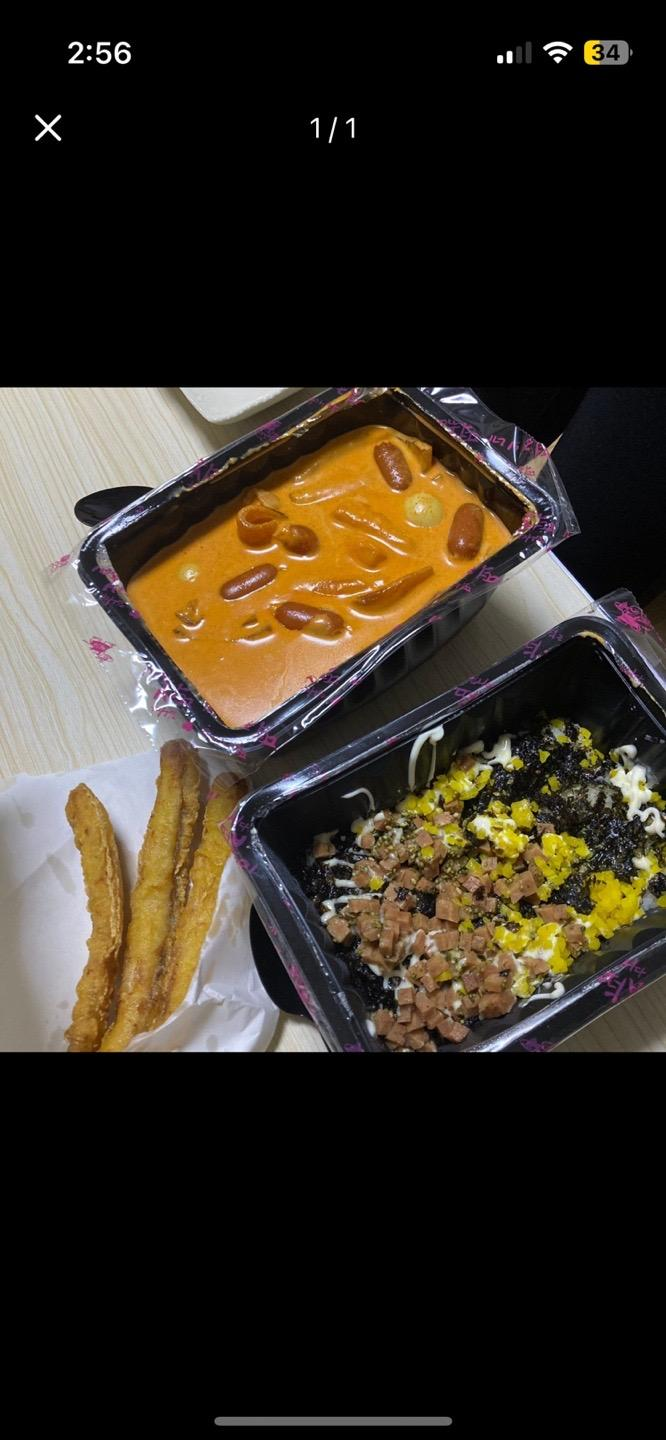Lunch Box: (232, 590, 665, 1053), (76, 387, 577, 767), (0, 740, 277, 1052)
